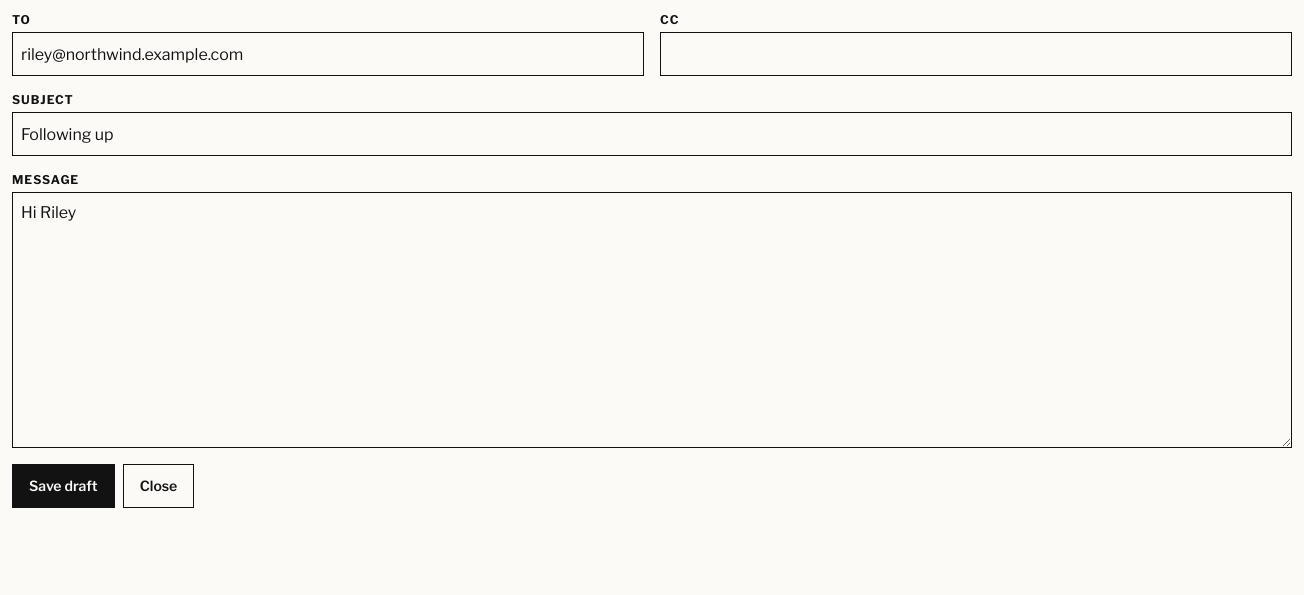
it: EmailEditor › shows the server's reason when a save fails, and does not report it saved
Click the button "Save draft": click(63, 486) [12,464,115,508]
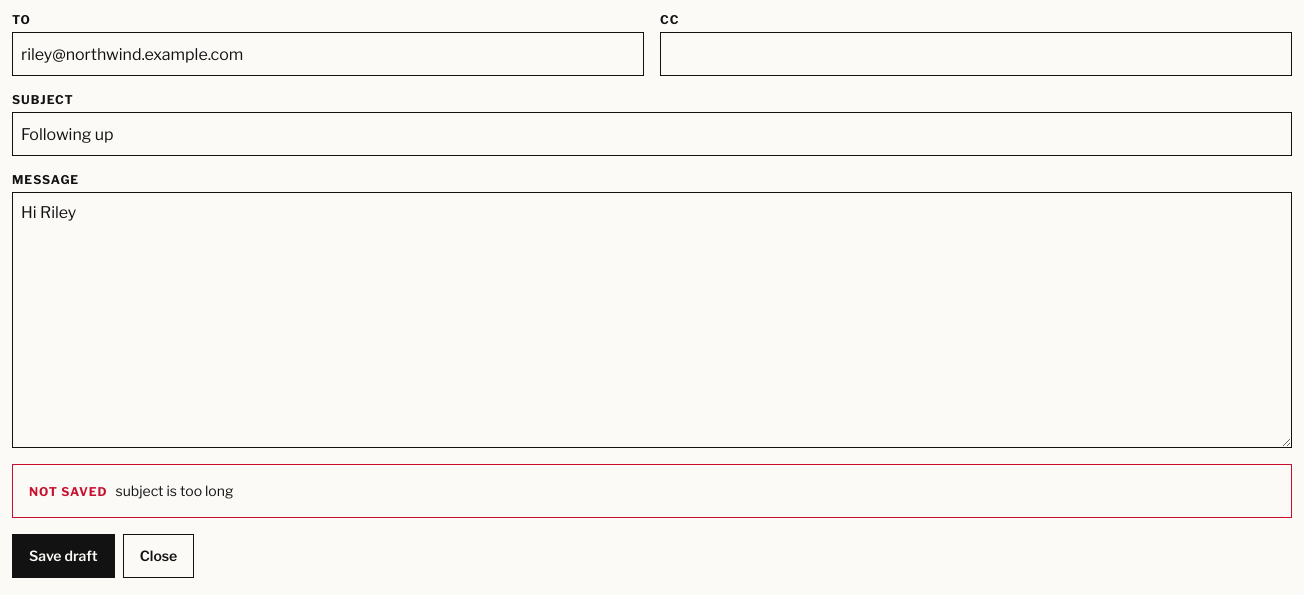
Expected: the text "subject is too long" is shown, [116,482,233,499]
